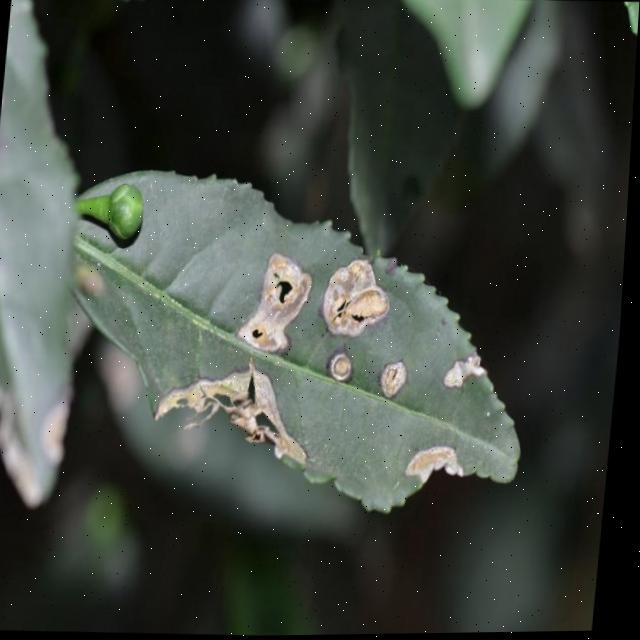Tea cloud leaf blight: (140, 357, 325, 473), (217, 239, 323, 364), (323, 250, 406, 340), (408, 433, 475, 490), (313, 337, 381, 389), (443, 330, 498, 393), (385, 356, 415, 404)
